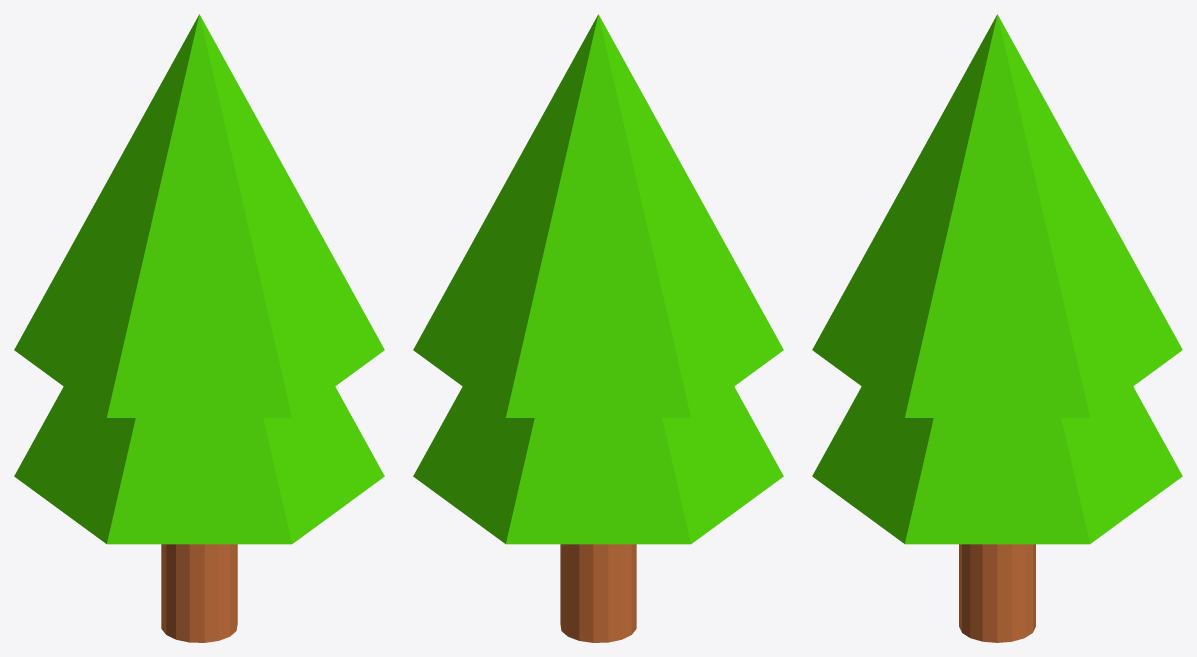
File: tree.glb
The picture shows the model from 3 angles, left to right: view 1: azimuth 30°, elevation 25°; view 2: azimuth 150°, elevation 25°; view 3: azimuth 270°, elevation 25°; orthographic projection.
Parts seen in each view (by area): view 1: Top, Bottom; view 2: Top, Bottom; view 3: Top, Bottom.
Part boxes in pixels (x1=…): Top: x1=14, y1=14, x2=384, y2=544; Bottom: x1=161, y1=544, x2=237, y2=642; Top: x1=413, y1=14, x2=783, y2=544; Bottom: x1=560, y1=544, x2=636, y2=642; Top: x1=812, y1=14, x2=1182, y2=544; Bottom: x1=959, y1=544, x2=1035, y2=642.
Size of the model in its own units: 1.73 by 3.65 by 2.
